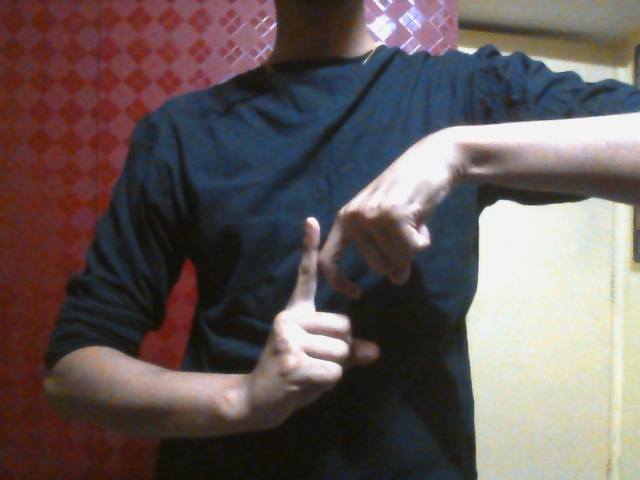K: (244, 164, 448, 420)
